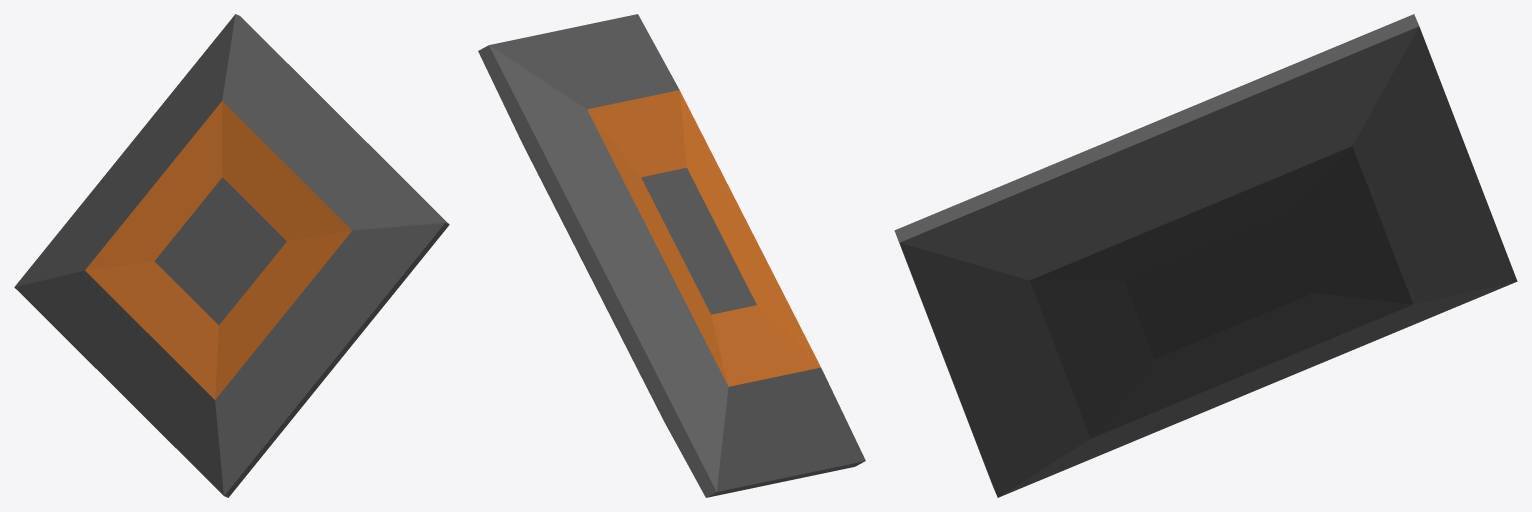
Rendered from Pillow2_Material.fbx.
3 renders of one model, left to right at view 1: azimuth 30°, elevation 25°; view 2: azimuth 150°, elevation 25°; view 3: azimuth 270°, elevation 25°, orthographic. The views are drawn at different scales.
Parts seen in each view (by area): view 1: Pillow; view 2: Pillow; view 3: Pillow.
Boxes of the visible parts, x1,y1,x2,y2 form: Pillow: (14,14,449,497); Pillow: (478,14,865,497); Pillow: (894,14,1517,497).
Size of the model in its own units: 0.2554 by 0.3512 by 0.3355.
